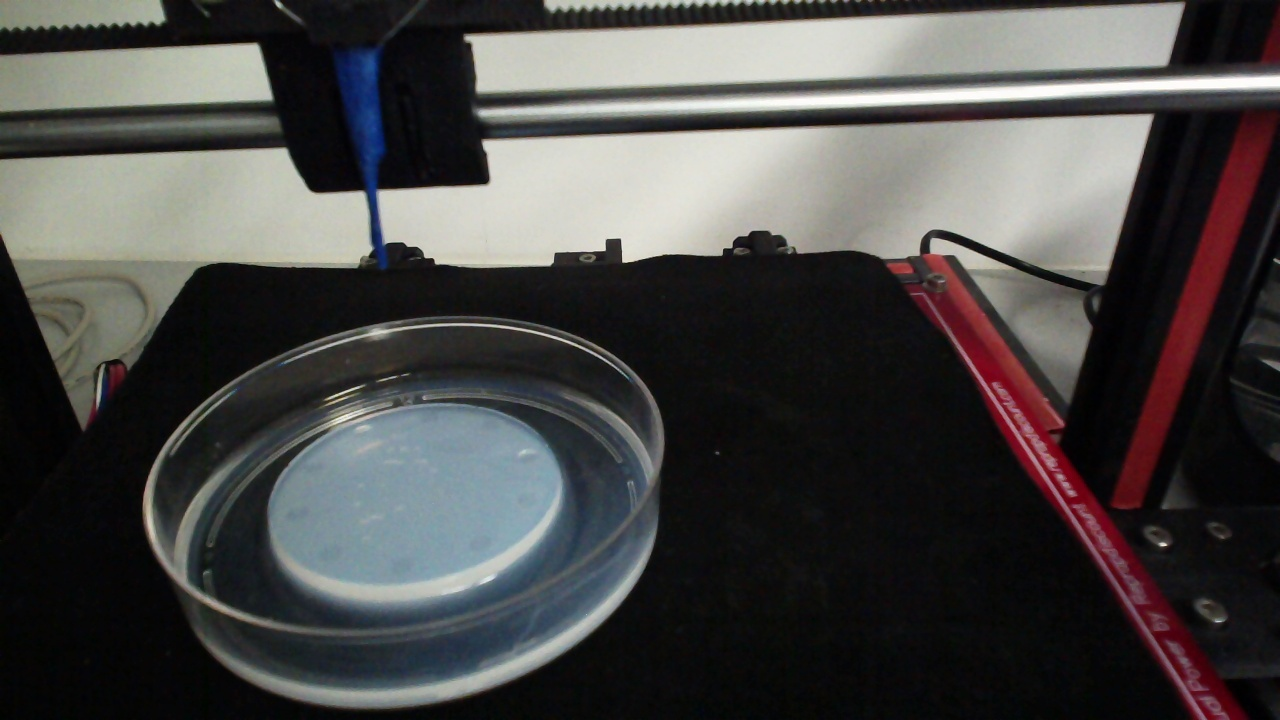groove: (283, 501, 311, 523), (514, 447, 543, 466), (314, 544, 341, 563), (385, 560, 413, 578), (467, 535, 493, 554), (418, 409, 443, 428), (516, 489, 538, 510), (350, 423, 377, 440), (302, 456, 326, 475), (478, 417, 504, 434)
needle: (340, 50, 384, 269)
